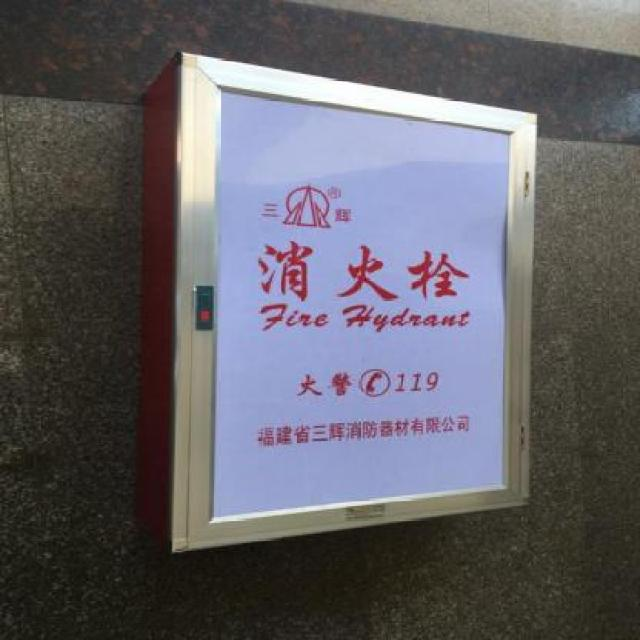firehydrant: (131, 43, 542, 562)
